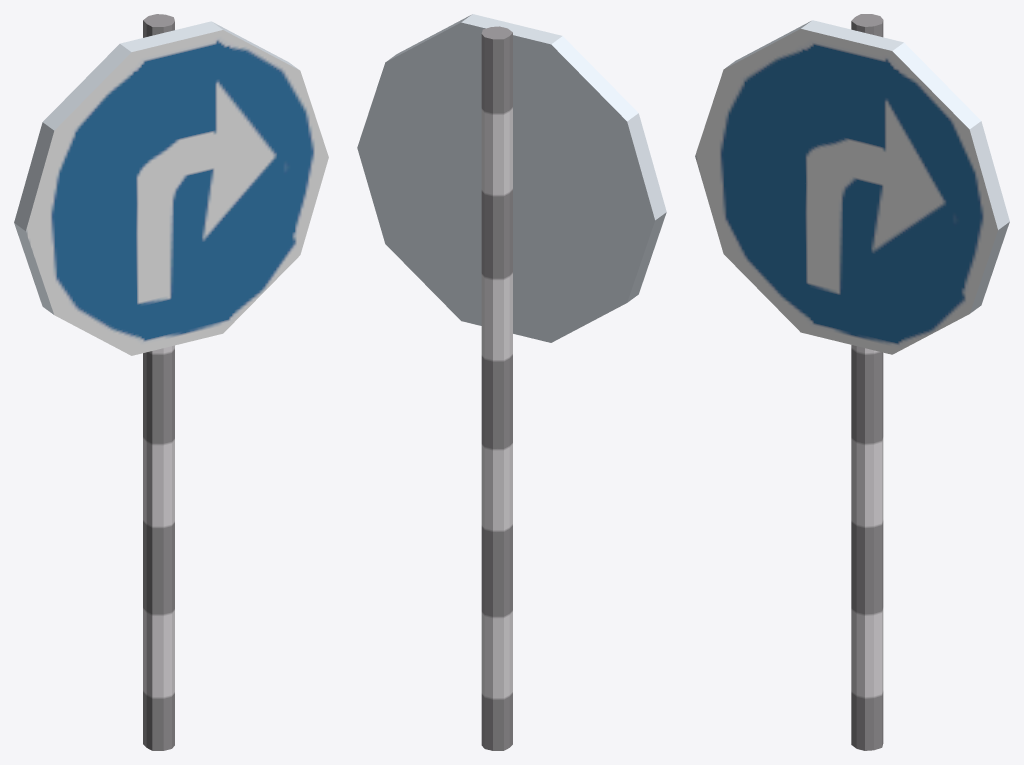
The model's file is Turn.glb.
3 views of the same model, side by side, from view 1: azimuth 30°, elevation 25°; view 2: azimuth 150°, elevation 25°; view 3: azimuth 330°, elevation 25° (orthographic).
Parts seen in each view (by area): view 1: Turn; view 2: Turn; view 3: Turn.
Boxes of the visible parts, bbox=[...] form: Turn: bbox=[14, 14, 328, 750]; Turn: bbox=[357, 14, 666, 750]; Turn: bbox=[695, 14, 1009, 750].
Size of the model in its own units: 110 by 251 by 16.98.
Materials: 1 (1 with a texture image).
